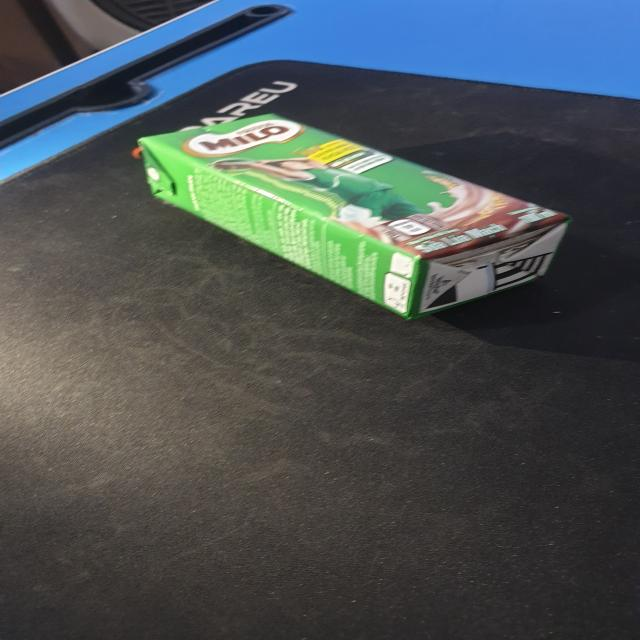Milo: (133, 111, 578, 324)
